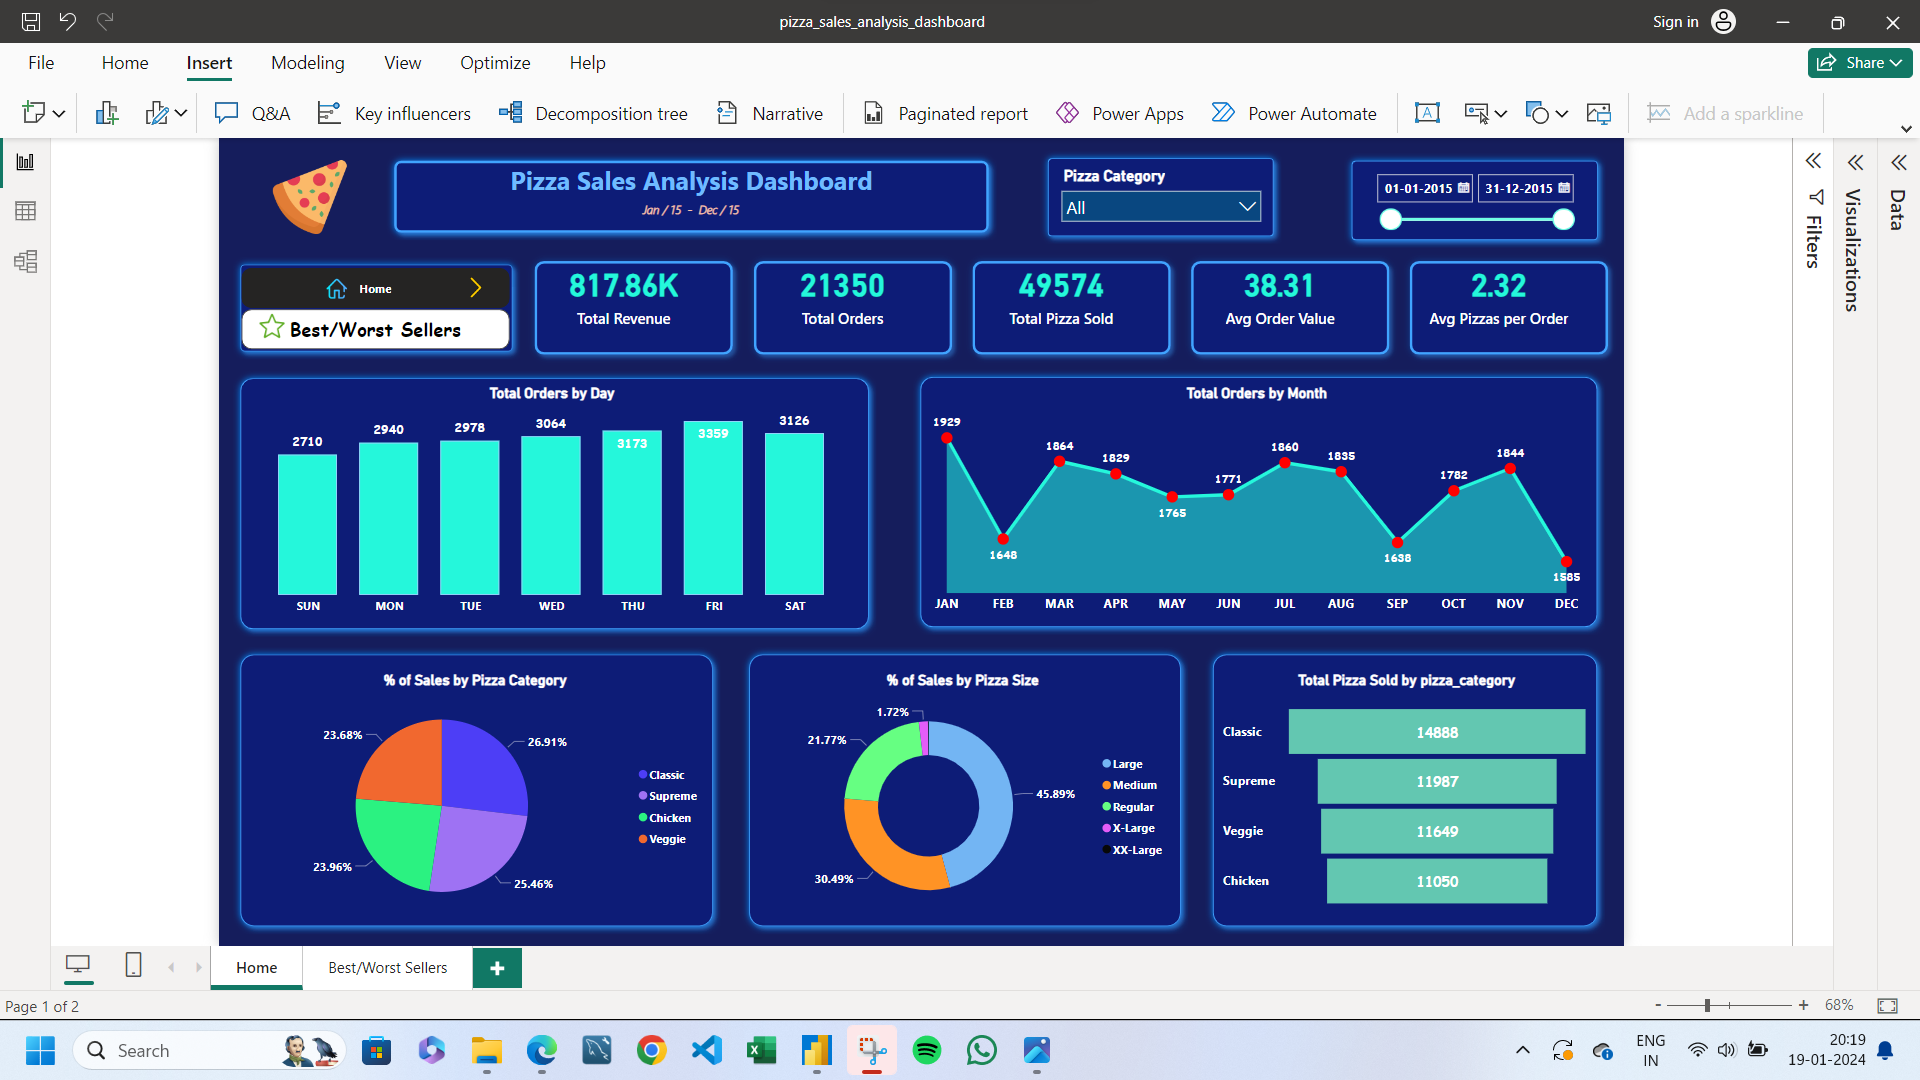

The page's visual inventory and layout, read from the dashboard file:
{"tool":"powerbi","page":{"name":"Home","canvas":[1650,950],"ordinal":0},"visuals":[{"type":"shape","box":[16.2,139.5,337.7,120.4],"z":0},{"type":"shape","box":[196.8,17.6,716.5,102.8],"z":1000},{"type":"image","box":[16.2,19.1,180.6,101.3],"z":2000},{"type":"textbox","box":[474.3,69,160,32.3],"z":3000},{"type":"cardVisual","fields":{"Data":["Pizza_Sales_Data.Total Revenue","Pizza_Sales_Data.Total Orders","Pizza_Sales_Data.Total Pizza Sold","Pizza_Sales_Data.Avg Order Value","Pizza_Sales_Data.Avg Pizzas per Order"]},"box":[353.3,127.3,1296.9,144.8],"z":4000},{"type":"shape","box":[16.2,273.1,756.2,312.8],"z":5000},{"type":"columnChart","fields":{"Category":["Pizza_Sales_Data.Day"],"Y":["Pizza_Sales_Data.Total Orders"]},"box":[26.4,289.3,729.8,279],"z":8000},{"type":"shape","box":[15.9,598.3,572.9,337.4],"z":9000},{"type":"shape","box":[814.7,272.1,813.1,311.9],"z":10000},{"type":"areaChart","fields":{"Category":["Pizza_Sales_Data.Month"],"Y":["Pizza_Sales_Data.Total Orders"]},"box":[824.3,289.6,790.9,278.5],"z":11000},{"type":"pieChart","title":"% of Sales by Pizza Category","fields":{"Category":["Pizza_Sales_Data.pizza_category"],"Y":["Pizza_Sales_Data.Total Revenue"]},"box":[27.1,627,549,296],"z":12000},{"type":"shape","box":[614.2,598.3,525.1,337.4],"z":13000},{"type":"shape","box":[1158.5,598.3,469.4,337.4],"z":14000},{"type":"donutChart","title":"% of Sales by Pizza Size","fields":{"Y":["Pizza_Sales_Data.Total Revenue"],"Category":["Pizza_Sales_Data.pizza_size"]},"box":[625.4,627,496.5,296],"z":15000},{"type":"funnel","fields":{"Y":["Pizza_Sales_Data.Total Pizza Sold"],"Category":["Pizza_Sales_Data.pizza_category"]},"box":[1174.4,627,440.8,296],"z":16000},{"type":"shape","box":[964.3,14.3,283.2,109.8],"z":16001},{"type":"shape","box":[1320.8,17.5,307.1,111.4],"z":16002},{"type":"slicer","fields":{"Values":["Pizza_Sales_Data.pizza_category"]},"box":[978.6,28.6,254.6,89.1],"z":16003},{"type":"slicer","fields":{"Values":["Pizza_Sales_Data.order_date"]},"box":[1347.9,32.3,252.6,86.6],"z":16004},{"type":"pageNavigator","box":[27.1,152.8,315.1,47.7],"z":16005},{"type":"pageNavigator","box":[27.1,200.5,315.1,47.7],"z":16006},{"type":"image","box":[106.6,160.7,62.1,33.4],"z":16007},{"type":"image","box":[275.3,159.1,54.1,33.4],"z":16008},{"type":"image","box":[41.1,201.2,42.6,39.6],"z":16009}]}

Visuals, with their boxes on the page's 1650x950 design canvas (x1, y1, x2, y2). These are canvas units, not pixel positions in the 1920x1080 screenshot, which may show the page scaled, cropped or inside an application window:
shape: 16/140/354/260
shape: 197/18/913/120
image: 16/19/197/120
textbox: 474/69/634/101
cardVisual - Pizza_Sales_Data.Total Revenue x Pizza_Sales_Data.Total Orders: 353/127/1650/272
shape: 16/273/772/586
columnChart - Pizza_Sales_Data.Day x Pizza_Sales_Data.Total Orders: 26/289/756/568
shape: 16/598/589/936
shape: 815/272/1628/584
areaChart - Pizza_Sales_Data.Month x Pizza_Sales_Data.Total Orders: 824/290/1615/568
"% of Sales by Pizza Category" pieChart: 27/627/576/923
shape: 614/598/1139/936
shape: 1158/598/1628/936
"% of Sales by Pizza Size" donutChart: 625/627/1122/923
funnel - Pizza_Sales_Data.Total Pizza Sold x Pizza_Sales_Data.pizza_category: 1174/627/1615/923
shape: 964/14/1248/124
shape: 1321/18/1628/129
slicer - Pizza_Sales_Data.pizza_category: 979/29/1233/118
slicer - Pizza_Sales_Data.order_date: 1348/32/1600/119
pageNavigator: 27/153/342/200
pageNavigator: 27/200/342/248
image: 107/161/169/194
image: 275/159/329/192
image: 41/201/84/241
